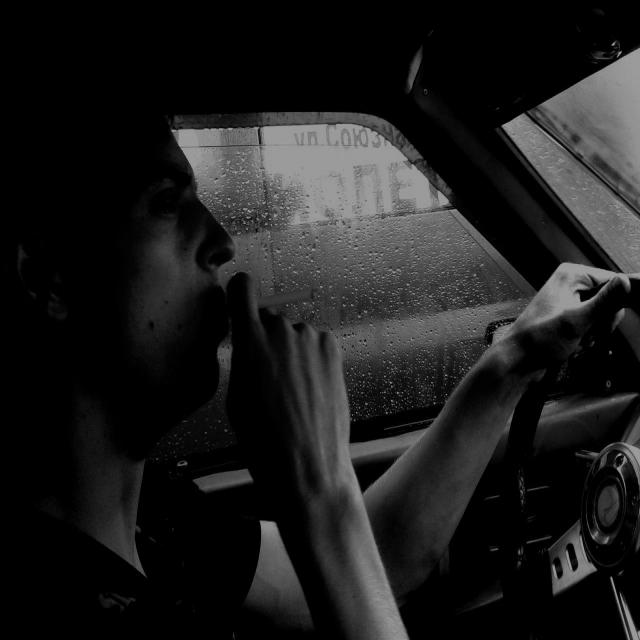Cigarette: (214, 271, 319, 323)
